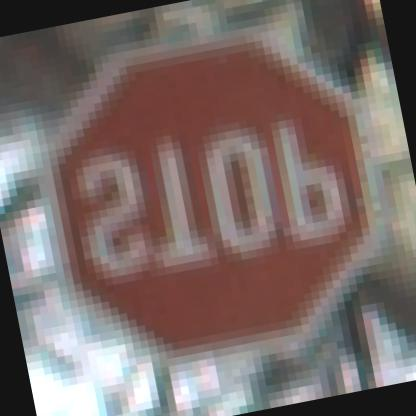stop: (23, 6, 404, 396)
